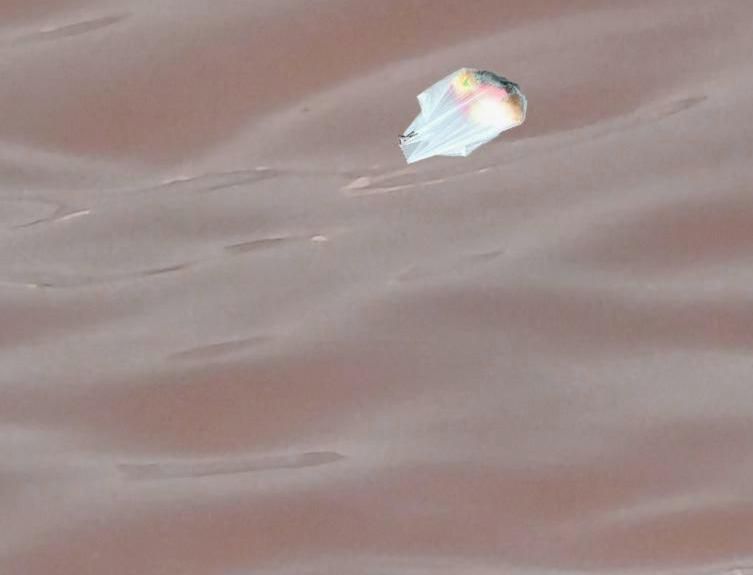Trash: (399, 63, 528, 168)
